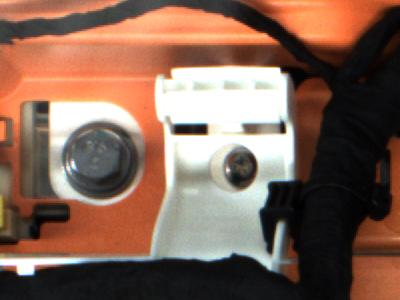nut_b: (58, 124, 144, 201)
